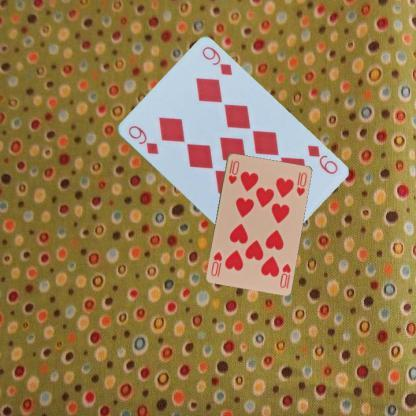10h: (277, 260, 292, 289), (226, 157, 240, 185)
9d: (124, 122, 160, 156), (304, 142, 339, 176)
